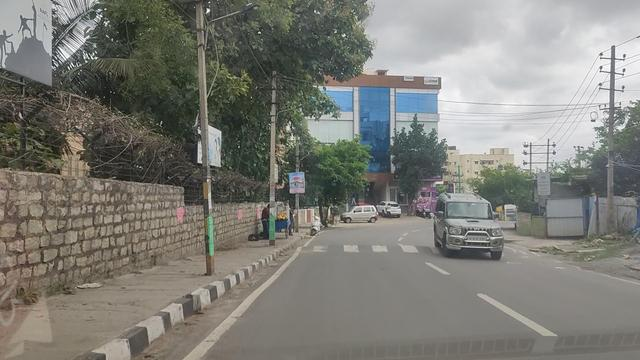LMV: (434, 195, 502, 258)
SpeedBump: (296, 245, 434, 256)
